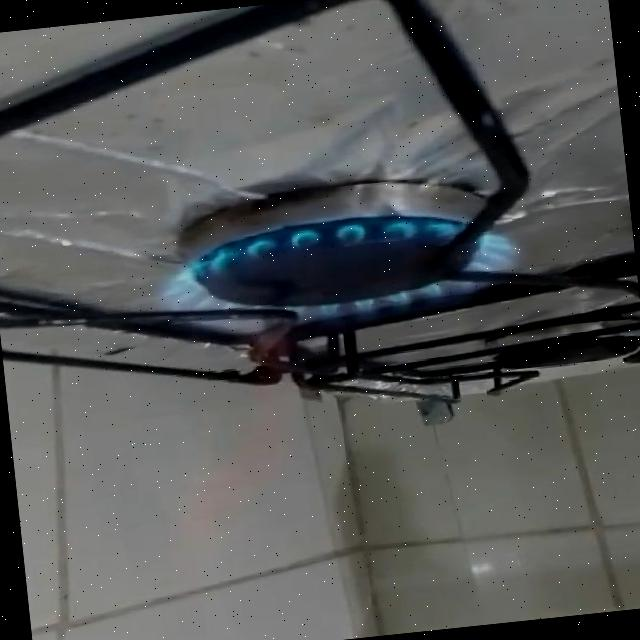fire: (139, 202, 558, 550)
